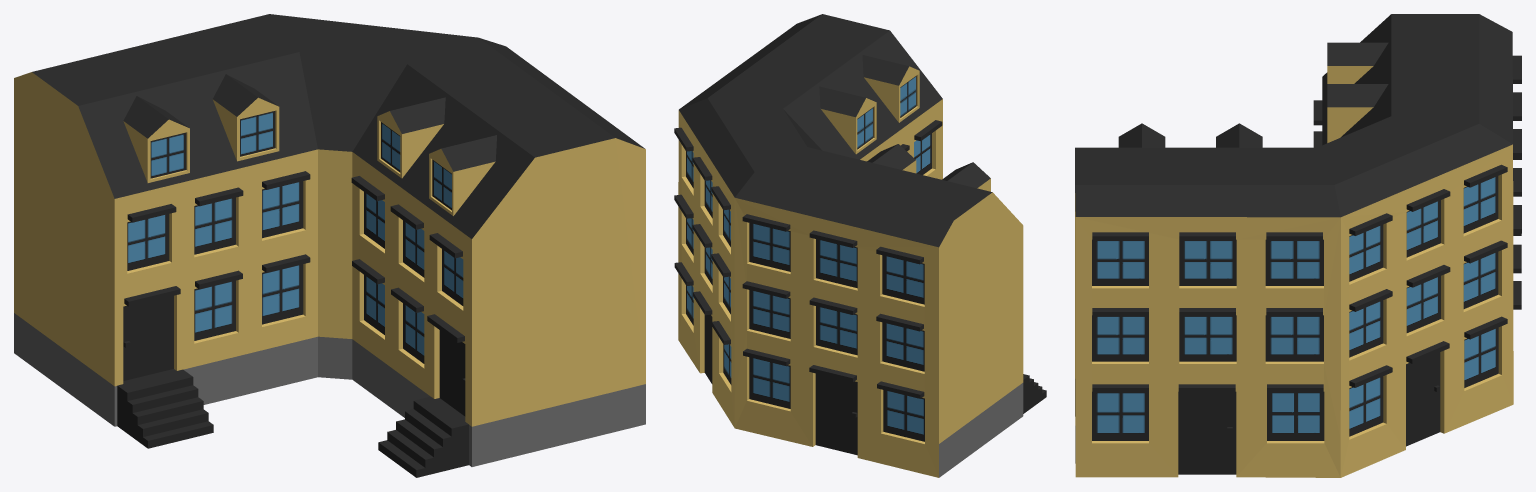
File: AngleYellow.obj
3 renders of one model, left to right at view 1: azimuth 30°, elevation 25°; view 2: azimuth 150°, elevation 25°; view 3: azimuth 270°, elevation 25°, orthographic. The views are drawn at different scales.
Visible parts, largest first — view 1: rogZolty.001; view 2: rogZolty.001; view 3: rogZolty.001.
Part boxes in pixels (x1,y1,x2,y2): rogZolty.001: (14,14,645,477); rogZolty.001: (674,14,1046,477); rogZolty.001: (1075,14,1521,477).
Bounding box in the file's own units: 11.75 × 8.07 × 11.74.
